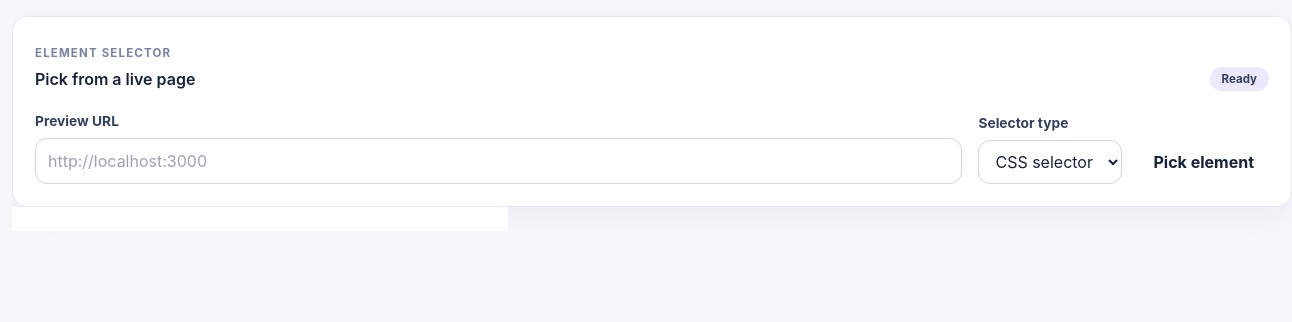
Test: ElementSelectorTool › falls back to the legacy copy command when clipboard access is unavailable
Click the button "Pick element". click: (1204, 162)
box: [1138,140,1269,184]
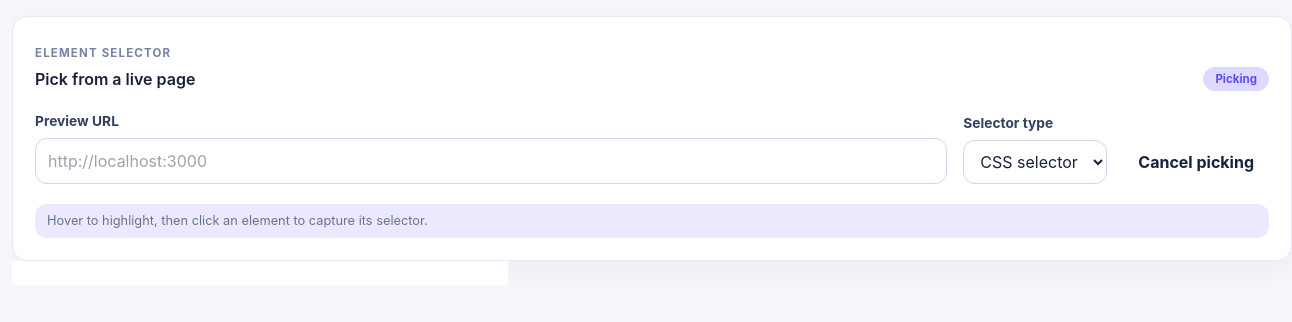
Click the 3rd field. click: (384, 273)
box: [260,261,508,285]
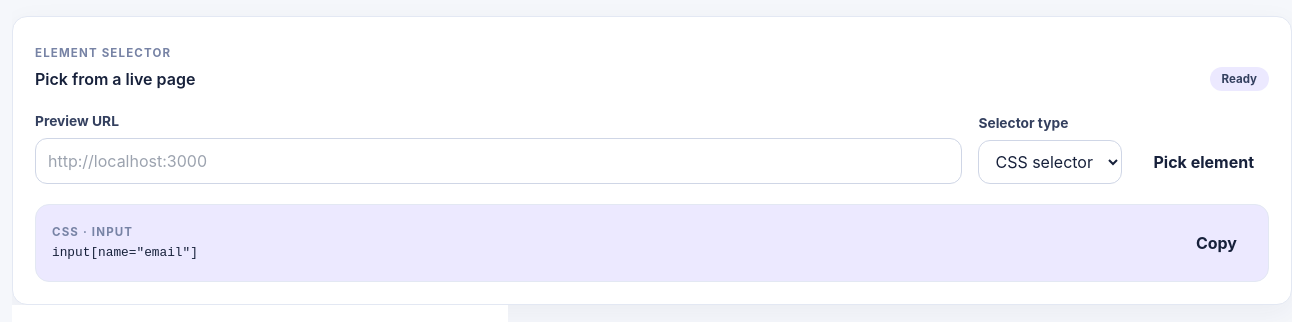
Click the button "Copy". click: (1216, 243)
box: [1181,221,1252,265]
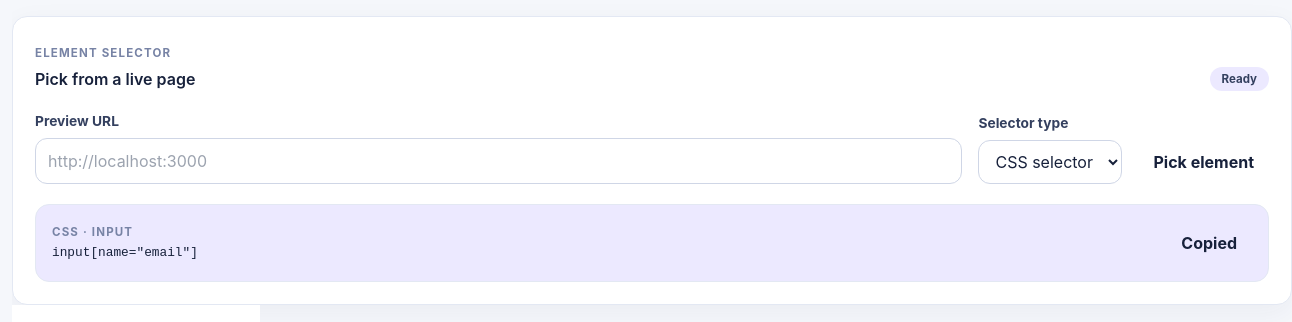
Expected: the button "Copied" is shown, [1166,221,1252,265]
